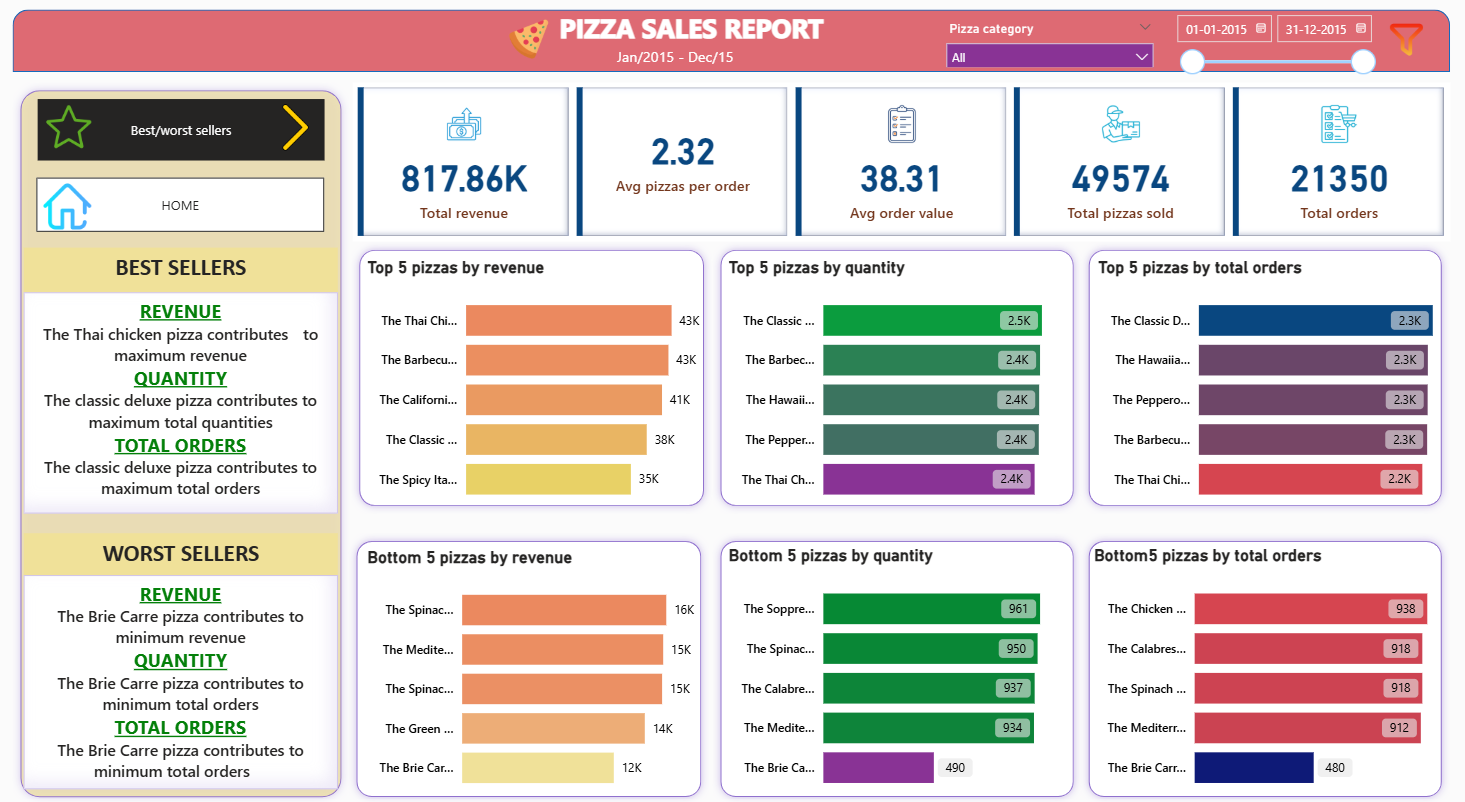

The dashboard page shown, as its layout file describes it:
{"tool":"powerbi","page":{"name":"Best/worst sellers","canvas":[1500,820],"ordinal":1},"visuals":[{"type":"shape","box":[20,86.7,341.7,733.3],"z":0},{"type":"cardVisual","fields":{"Data":["pizza_sales.Total revenue","pizza_sales.Avg pizzas per order","pizza_sales.Avg order value","pizza_sales.Total pizzas sold","pizza_sales.Total orders"]},"box":[365,86.7,1113.3,161.7],"z":1000},{"type":"shape","box":[20,13.3,1458.3,63.3],"z":2000},{"type":"textbox","box":[471.4,8.6,474.3,48.6],"z":3000},{"type":"textbox","box":[627.1,45.7,162.9,41.4],"z":4000},{"type":"image","box":[507.1,17.1,72.9,51.4],"z":5000},{"type":"shape","box":[364.3,248.6,365.7,275.7],"z":6000},{"type":"textbox","box":[31.7,254.2,318.3,45.8],"z":7000},{"type":"textbox","box":[31.4,300,318.6,224.3],"z":8000},{"type":"textbox","box":[31.4,544.3,318.6,42.9],"z":9000},{"type":"textbox","box":[31.4,587.1,318.6,217.1],"z":10000},{"type":"slicer","fields":{"Values":["pizza_sales.pizza_category"]},"box":[957.1,20,230,51.4],"z":11000},{"type":"slicer","fields":{"Values":["pizza_sales.order_date"]},"box":[1188.6,8.6,222.9,74.3],"z":12000},{"type":"image","box":[1404.3,14.3,58.6,57.1],"z":13000},{"type":"shape","box":[730,248.6,374.3,275.7],"z":14000},{"type":"shape","box":[1104.3,248.6,374.3,275.7],"z":15000},{"type":"shape","box":[361.4,544.3,365.7,275.7],"z":16000},{"type":"shape","box":[730,544.3,374.3,275.7],"z":17000},{"type":"shape","box":[1104.3,544.3,374.3,275.7],"z":18000},{"type":"barChart","title":"Top 5 pizzas by revenue","fields":{"Category":["pizza_sales.pizza_name"],"Y":["pizza_sales.Total revenue"]},"box":[374.3,264.3,367.1,262.9],"z":19000},{"type":"barChart","title":"Bottom 5 pizzas by revenue","fields":{"Category":["pizza_sales.pizza_name"],"Y":["pizza_sales.Total revenue"]},"box":[374.3,558.6,352.9,261.4],"z":20000},{"type":"barChart","title":"Top 5 pizzas by quantity","fields":{"Category":["pizza_sales.pizza_name"],"Y":["pizza_sales.Total pizzas sold"]},"box":[741.4,264.3,351.4,262.9],"z":21000},{"type":"barChart","title":"Bottom 5 pizzas by quantity","fields":{"Category":["pizza_sales.pizza_name"],"Y":["pizza_sales.Total pizzas sold"]},"box":[741.4,557.1,351.4,262.9],"z":22000},{"type":"barChart","title":"Top 5 pizzas by total orders","fields":{"Category":["pizza_sales.pizza_name"],"Y":["pizza_sales.Total orders"]},"box":[1115.7,264.3,374.3,262.9],"z":23000},{"type":"barChart","title":"Bottom5 pizzas by total orders","fields":{"Category":["pizza_sales.pizza_name"],"Y":["pizza_sales.Total orders"]},"box":[1112.9,557.1,374.3,262.9],"z":24000},{"type":"pageNavigator","box":[45.7,104.3,291.4,62.9],"z":25000},{"type":"pageNavigator","box":[44.3,182.9,292.9,55.7],"z":26000},{"type":"image","box":[277.1,104.3,60,57.1],"z":27000},{"type":"image","box":[45.7,104.3,62.9,55.7],"z":28000},{"type":"image","box":[44.3,182.9,62.9,58.6],"z":29000}]}

Visuals, with their boxes in screenshot pixels (x1, y1, x2, y2), scaled from the page's 1500x820 canvas onto the 1465x802 screenshot:
shape: [x1=20, y1=85, x2=353, y2=801]
cardVisual - pizza_sales.Total revenue x pizza_sales.Avg pizzas per order: [x1=356, y1=85, x2=1444, y2=243]
shape: [x1=20, y1=13, x2=1444, y2=75]
textbox: [x1=460, y1=8, x2=924, y2=56]
textbox: [x1=612, y1=45, x2=772, y2=85]
image: [x1=495, y1=17, x2=566, y2=67]
shape: [x1=356, y1=243, x2=713, y2=513]
textbox: [x1=31, y1=249, x2=342, y2=293]
textbox: [x1=31, y1=293, x2=342, y2=513]
textbox: [x1=31, y1=532, x2=342, y2=574]
textbox: [x1=31, y1=574, x2=342, y2=787]
slicer - pizza_sales.pizza_category: [x1=935, y1=20, x2=1159, y2=70]
slicer - pizza_sales.order_date: [x1=1161, y1=8, x2=1379, y2=81]
image: [x1=1372, y1=14, x2=1429, y2=70]
shape: [x1=713, y1=243, x2=1079, y2=513]
shape: [x1=1079, y1=243, x2=1444, y2=513]
shape: [x1=353, y1=532, x2=710, y2=801]
shape: [x1=713, y1=532, x2=1079, y2=801]
shape: [x1=1079, y1=532, x2=1444, y2=801]
"Top 5 pizzas by revenue" barChart: [x1=366, y1=258, x2=724, y2=516]
"Bottom 5 pizzas by revenue" barChart: [x1=366, y1=546, x2=710, y2=801]
"Top 5 pizzas by quantity" barChart: [x1=724, y1=258, x2=1067, y2=516]
"Bottom 5 pizzas by quantity" barChart: [x1=724, y1=545, x2=1067, y2=801]
"Top 5 pizzas by total orders" barChart: [x1=1090, y1=258, x2=1455, y2=516]
"Bottom5 pizzas by total orders" barChart: [x1=1087, y1=545, x2=1452, y2=801]
pageNavigator: [x1=45, y1=102, x2=329, y2=164]
pageNavigator: [x1=43, y1=179, x2=329, y2=233]
image: [x1=271, y1=102, x2=329, y2=158]
image: [x1=45, y1=102, x2=106, y2=156]
image: [x1=43, y1=179, x2=105, y2=236]
